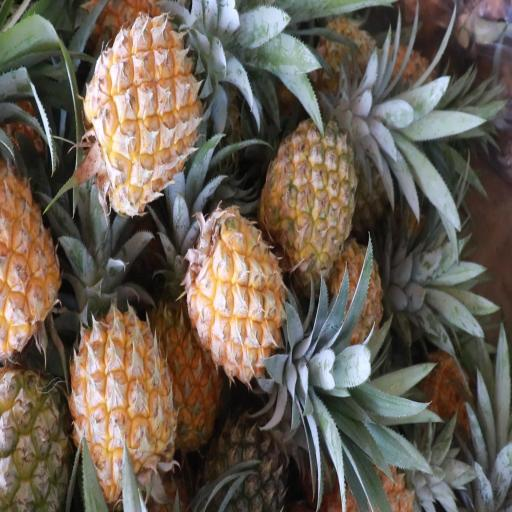------------------------------: (265, 114, 354, 279), (0, 366, 74, 512)
Pineapple - v8 v1: (89, 21, 204, 209), (76, 312, 174, 495), (186, 210, 284, 386), (0, 155, 64, 357), (151, 301, 219, 445)
